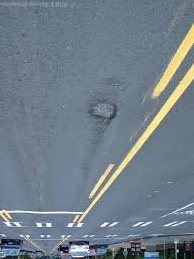pothole: (83, 96, 115, 127)
